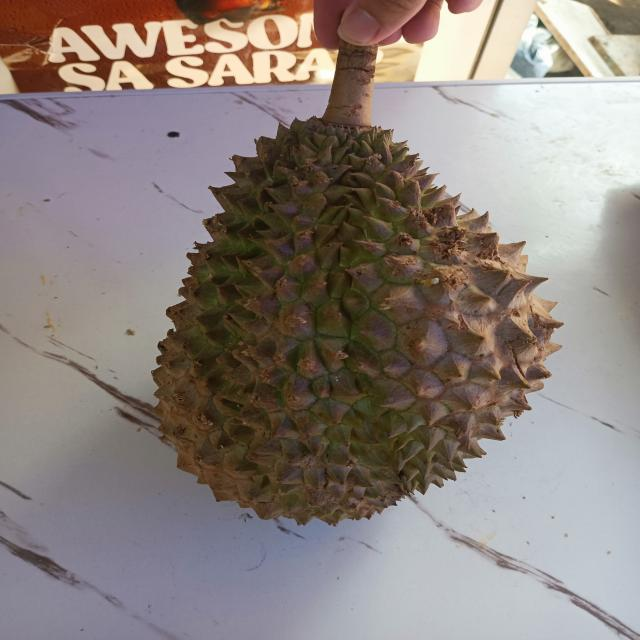mature: (153, 118, 562, 525)
